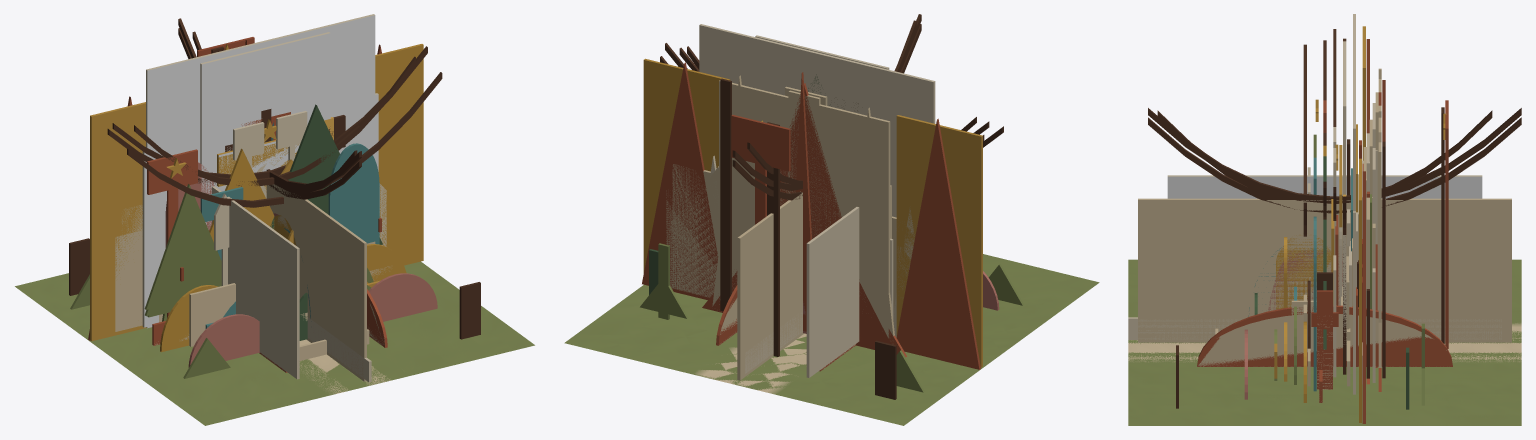
The model's file is hanoi-tiles.glb.
The picture shows the model from 3 angles, left to right: view 1: azimuth 30°, elevation 25°; view 2: azimuth 150°, elevation 25°; view 3: azimuth 270°, elevation 25°; orthographic projection. The views are drawn at different scales.
Parts seen in each view (by area): view 1: hanoi_alley, hanoi_turtletower__base, hanoi_tubehouse__base, hanoi_tranquoc__art, hanoi_cathedral__art, hanoi_mural, hanoi_thehuc__art, hanoi_badinh, hanoi_tranquoc, hanoi_longbien__art, hanoi_pedestrian, hanoi_pole (+20 smaller); view 2: hanoi_alley, hanoi_mausoleum, hanoi_turtletower__base, hanoi_tubehouse__base, hanoi_cathedral__art, hanoi_badinh, hanoi_mural, hanoi_thehuc__art, hanoi_ngocson, hanoi_longbien__art, hanoi_tubehouse, hanoi_cathedral (+10 smaller); view 3: hanoi_mural, hanoi_tubehouse__base, hanoi_turtletower__base, hanoi_thehuc, hanoi_stonebridge, hanoi_longbien__art, hanoi_pole_street, hanoi_alley, hanoi_pole, hanoi_badinh, hanoi_tranquoc, hanoi_mausoleum (+14 smaller).
Part boxes in pixels (<box>): hanoi_alley: <box>88,44,442,341</box>; hanoi_turtletower__base: <box>15,261,534,425</box>; hanoi_tubehouse__base: <box>15,262,534,425</box>; hanoi_tranquoc__art: <box>200,32,330,229</box>; hanoi_cathedral__art: <box>146,14,375,328</box>; hanoi_mural: <box>266,184,371,382</box>; hanoi_thehuc__art: <box>212,220,299,379</box>; hanoi_badinh: <box>183,37,437,378</box>; hanoi_tranquoc: <box>144,183,386,309</box>; hanoi_longbien__art: <box>212,186,299,378</box>; hanoi_pedestrian: <box>165,143,379,247</box>; hanoi_pole: <box>107,18,415,190</box>; hanoi_alley: <box>642,47,1003,369</box>; hanoi_mausoleum: <box>672,80,917,338</box>; hanoi_turtletower__base: <box>564,254,1099,425</box>; hanoi_tubehouse__base: <box>577,254,1098,425</box>; hanoi_cathedral__art: <box>699,24,935,163</box>; hanoi_badinh: <box>640,78,1024,356</box>; hanoi_mural: <box>737,191,804,380</box>; hanoi_thehuc__art: <box>806,238,859,377</box>; hanoi_ngocson: <box>670,185,890,349</box>; hanoi_longbien__art: <box>806,207,859,377</box>; hanoi_tubehouse: <box>684,97,863,308</box>; hanoi_cathedral: <box>710,75,914,344</box>; hanoi_mural: <box>1128,198,1511,342</box>; hanoi_tubehouse__base: <box>1128,260,1521,425</box>; hanoi_turtletower__base: <box>1128,259,1521,425</box>; hanoi_thehuc: <box>1197,290,1452,402</box>; hanoi_stonebridge: <box>1197,314,1446,402</box>; hanoi_longbien__art: <box>1167,175,1482,198</box>; hanoi_pole_street: <box>1148,29,1521,220</box>; hanoi_alley: <box>1303,26,1369,423</box>; hanoi_pole: <box>1148,38,1521,348</box>; hanoi_badinh: <box>1244,100,1448,405</box>; hanoi_tranquoc: <box>1313,92,1378,360</box>; hanoi_mausoleum: <box>1357,68,1381,322</box>.
Bounding box in the file's own units: 2 × 1.52 × 2.
